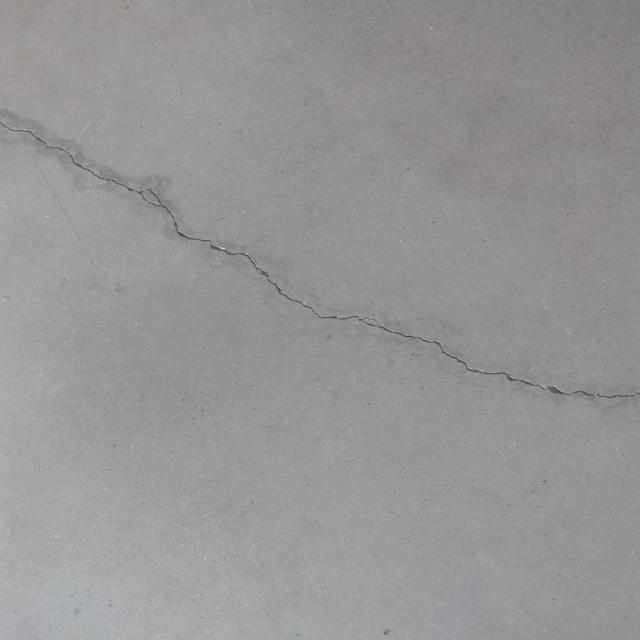Rachadura: (0, 116, 640, 398)
